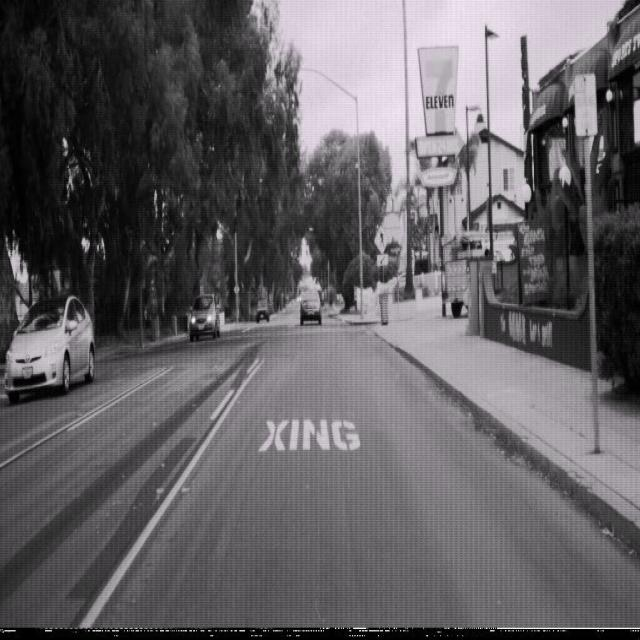pedestrianCrossing: (374, 223, 389, 256)
